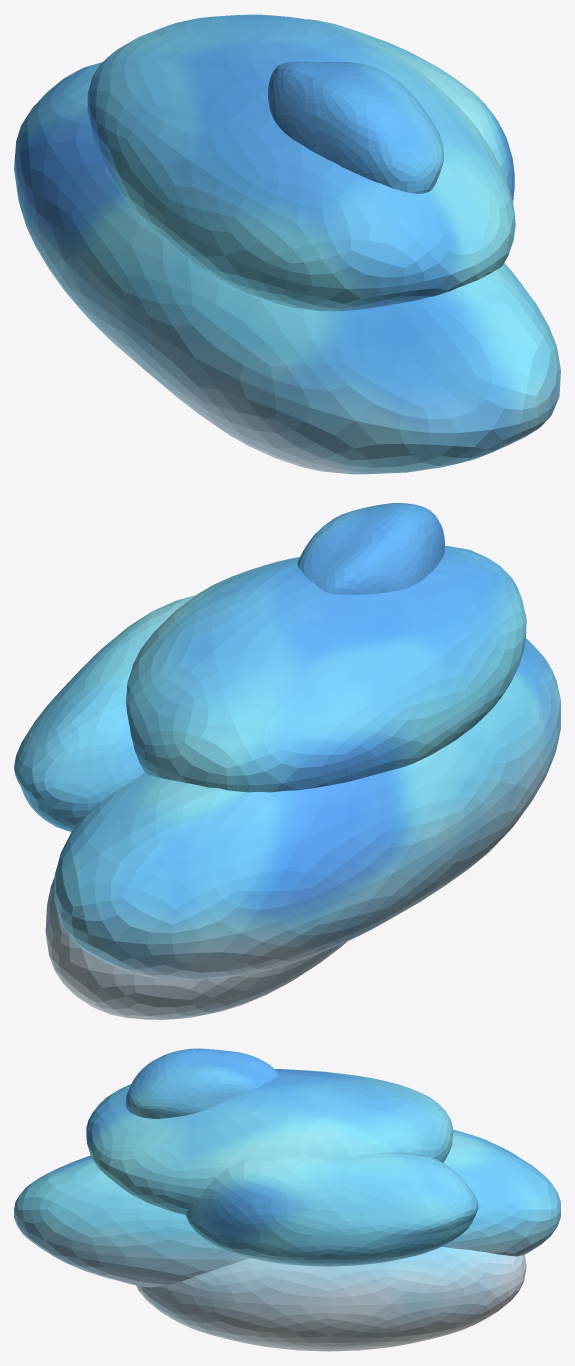
File: Cloud2.fbx
3 views of the same model, one above another, from view 1: azimuth 30°, elevation 25°; view 2: azimuth 150°, elevation 25°; view 3: azimuth 270°, elevation 25° (orthographic). The views are drawn at different scales.
Parts seen in each view (by area): view 1: Icosphere.097; view 2: Icosphere.097; view 3: Icosphere.097.
Part boxes in pixels (x1,y1,x2,y2): Icosphere.097: (14,14,560,474); Icosphere.097: (14,503,560,1019); Icosphere.097: (14,1048,560,1351).
Bounding box in the file's own units: 290 × 312 × 570.
